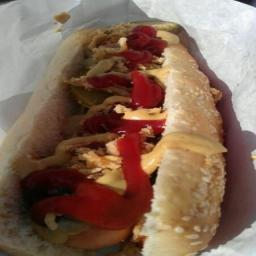hotdog: (56, 213, 138, 252)
